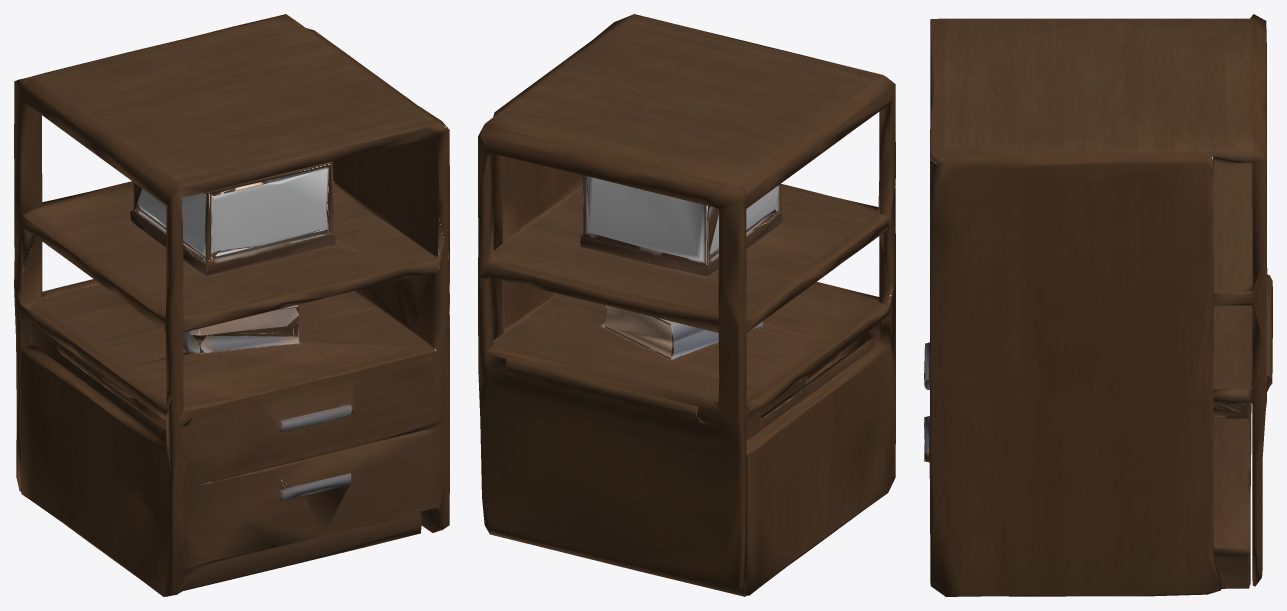
File: hotel-gallery-console.glb
3 views of the same model, side by side, from view 1: azimuth 30°, elevation 25°; view 2: azimuth 150°, elevation 25°; view 3: azimuth 270°, elevation 25° (orthographic). The views are drawn at different scales.
Parts seen in each view (by area): view 1: world; view 2: world; view 3: world.
Boxes of the visible parts, x1=… form: world: x1=14, y1=14, x2=449, y2=596; world: x1=478, y1=14, x2=895, y2=596; world: x1=924, y1=14, x2=1272, y2=596.
Bounding box in the file's own units: 0.7038 × 1 × 0.7154.
Materials: 1 (1 with a texture image).
